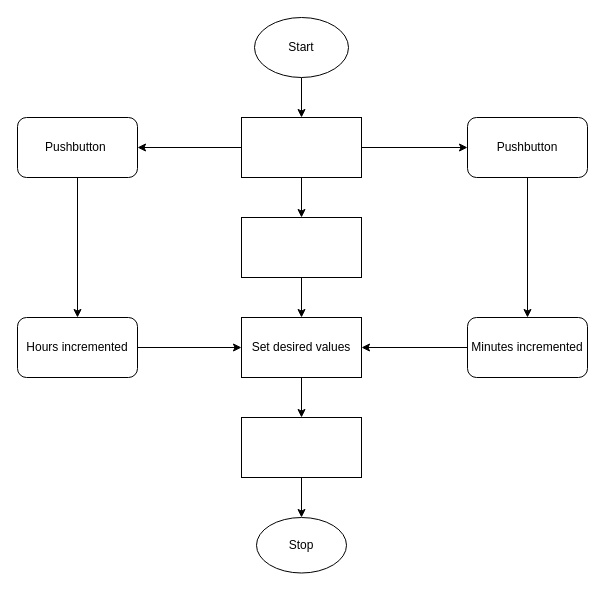
The diagram is 605 pixels wide and 591 high, and some of its shapes have lost their labels. Here are the shapes that lost their labels. From the top down, the centre of each, then its label:
At point 301,147: "Initialize Hours and Minutes".
At point 301,247: "Synchronize clock and processor speed".
At point 301,447: "4 7segment display".
